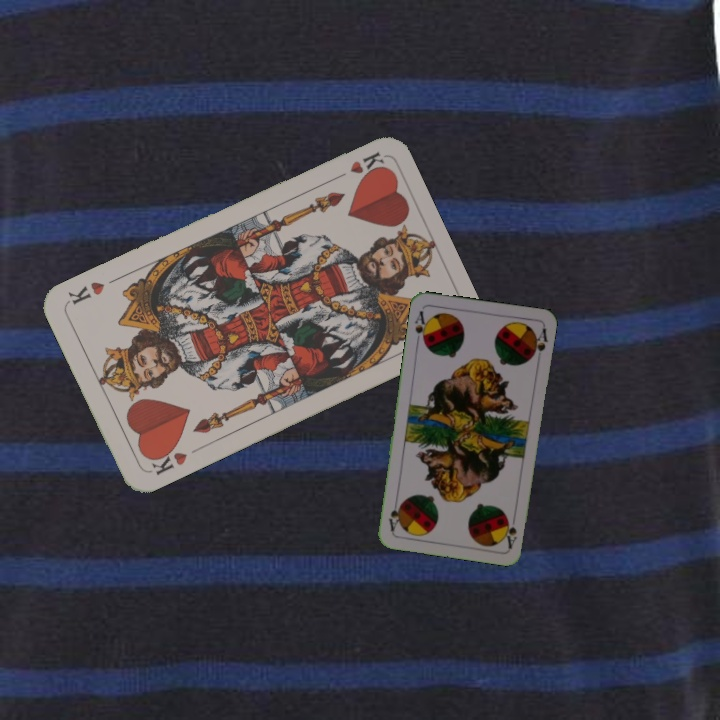HK: (328, 148, 387, 184), (145, 442, 190, 478)
SA: (411, 307, 431, 347), (501, 510, 519, 550)
